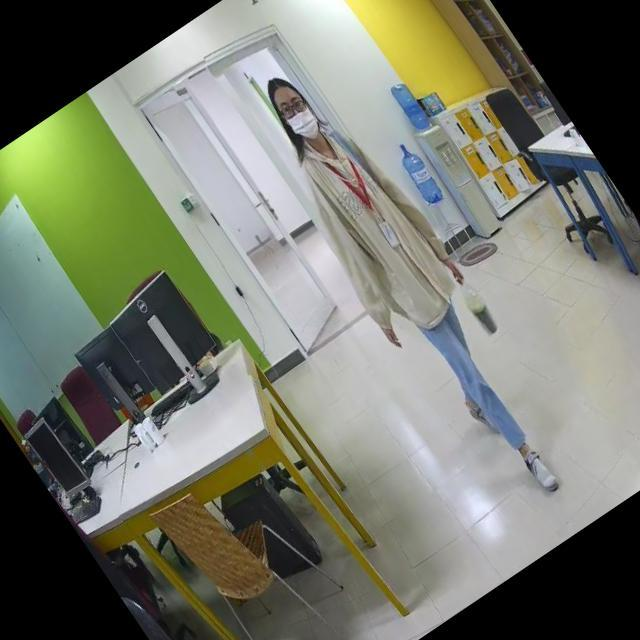person: (243, 60, 584, 513)
